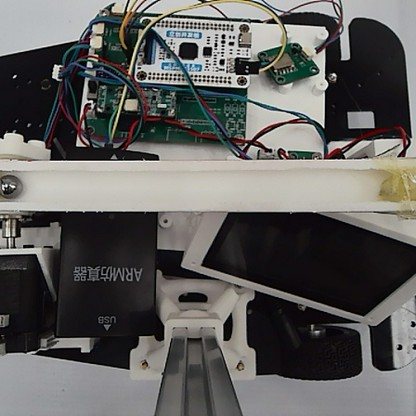ironball: (0, 170, 23, 202)
